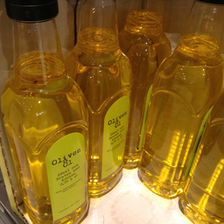oil: (3, 1, 91, 224), (137, 1, 224, 199), (67, 1, 132, 198)
